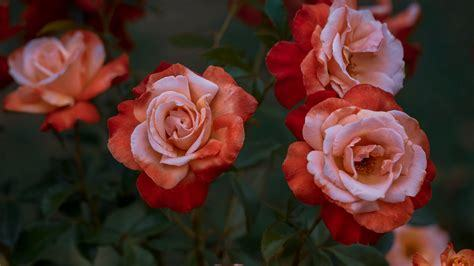Rose: (296, 92, 428, 232), (116, 64, 246, 198), (6, 34, 129, 120), (294, 11, 409, 99)
